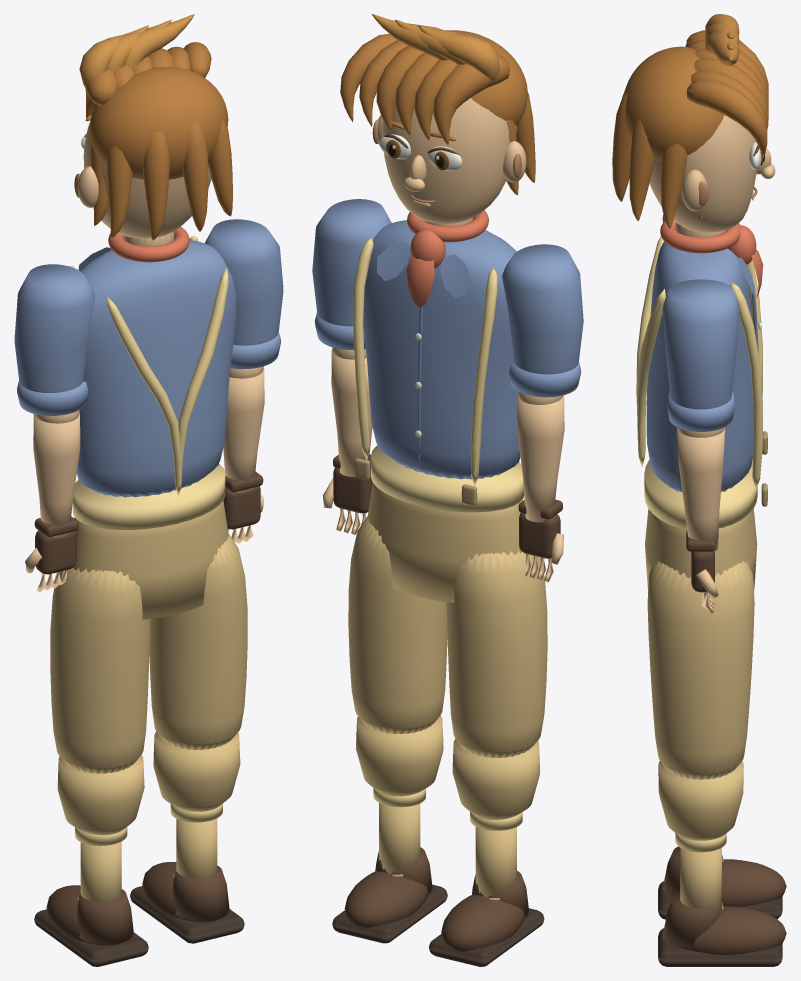
Rendered from courier_character.glb.
3 views of the same model, side by side, from view 1: azimuth 30°, elevation 25°; view 2: azimuth 150°, elevation 25°; view 3: azimuth 270°, elevation 25° (orthographic).
Visible parts, largest first — view 1: Torso_Geometry, Head_Geometry, LegL_Geometry, Root_Geometry, LegR_Geometry, Knee.001_Geometry, Knee_Geometry, ArmL_Geometry, ArmR_Geometry, Forearm, Forearm.001, Hand_Geometry (+1 smaller); view 2: Torso_Geometry, Head_Geometry, LegL_Geometry, LegR_Geometry, Root_Geometry, Knee.001_Geometry, Knee_Geometry, ArmL_Geometry, ArmR_Geometry, Forearm, Forearm.001, Hand_Geometry (+1 smaller); view 3: Head_Geometry, LegR_Geometry, Torso_Geometry, Knee.001_Geometry, ArmR_Geometry, Root_Geometry, Forearm.001, Knee_Geometry, Hand.001_Geometry.
Part boxes in pixels (x1=…): Torso_Geometry: x1=69, y1=227, x2=235, y2=497; Head_Geometry: x1=74, y1=14, x2=232, y2=240; LegL_Geometry: x1=50, y1=567, x2=150, y2=773; Root_Geometry: x1=72, y1=464, x2=228, y2=619; LegR_Geometry: x1=149, y1=534, x2=247, y2=749; Knee.001_Geometry: x1=130, y1=731, x2=244, y2=943; Knee_Geometry: x1=34, y1=754, x2=148, y2=966; ArmL_Geometry: x1=14, y1=264, x2=95, y2=423; ArmR_Geometry: x1=205, y1=219, x2=283, y2=378; Forearm: x1=33, y1=413, x2=80, y2=537; Forearm.001: x1=223, y1=368, x2=264, y2=492; Hand_Geometry: x1=25, y1=516, x2=78, y2=591; Torso_Geometry: x1=353, y1=210, x2=520, y2=505; Head_Geometry: x1=340, y1=14, x2=535, y2=223; LegL_Geometry: x1=446, y1=551, x2=547, y2=757; LegR_Geometry: x1=348, y1=516, x2=447, y2=733; Root_Geometry: x1=367, y1=445, x2=524, y2=602; Knee.001_Geometry: x1=332, y1=715, x2=447, y2=943; Knee_Geometry: x1=429, y1=739, x2=544, y2=966; ArmL_Geometry: x1=502, y1=244, x2=583, y2=404; ArmR_Geometry: x1=312, y1=199, x2=391, y2=359; Forearm: x1=517, y1=395, x2=564, y2=522; Forearm.001: x1=331, y1=349, x2=372, y2=476; Hand_Geometry: x1=518, y1=499, x2=563, y2=582; Head_Geometry: x1=612, y1=14, x2=775, y2=232; LegR_Geometry: x1=647, y1=561, x2=754, y2=779; Torso_Geometry: x1=636, y1=220, x2=767, y2=506; Knee.001_Geometry: x1=658, y1=761, x2=786, y2=966; ArmR_Geometry: x1=662, y1=279, x2=739, y2=437; Root_Geometry: x1=644, y1=459, x2=757, y2=590; Forearm.001: x1=677, y1=427, x2=724, y2=551; Knee_Geometry: x1=658, y1=846, x2=786, y2=919; Hand.001_Geometry: x1=686, y1=530, x2=718, y2=613.
Bounding box in the file's own units: 0.566 × 1.86 × 0.3259.
